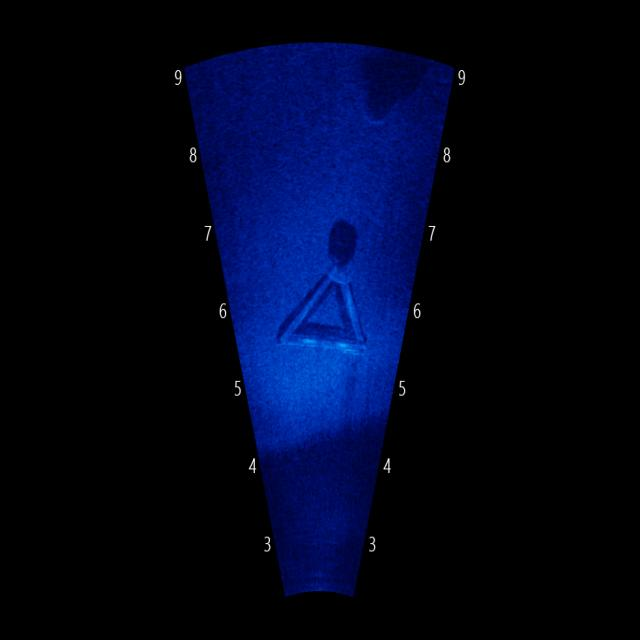triangle: (271, 247, 383, 368)
